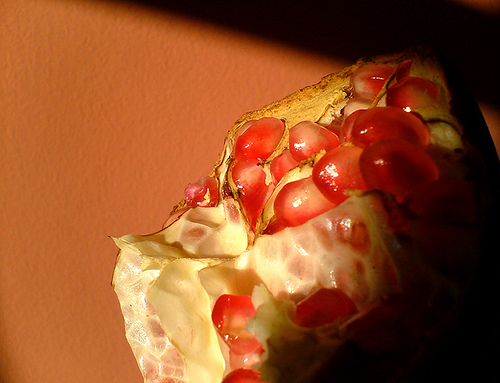pomogranate: (107, 53, 498, 382)
